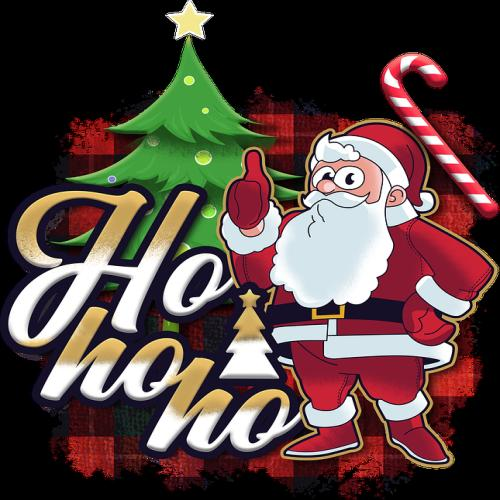Santa: (219, 118, 498, 472)
